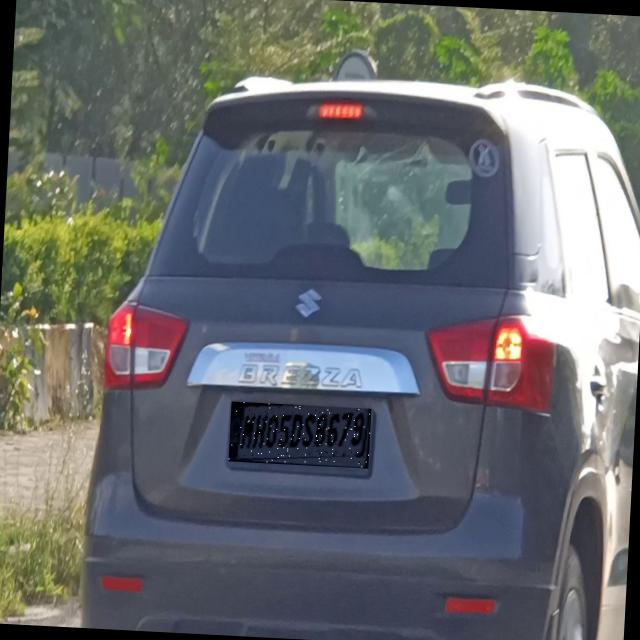Plate: (230, 403, 373, 470)
